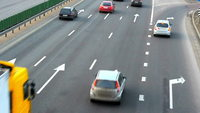car: (88, 69, 126, 102), (153, 20, 172, 36), (58, 7, 77, 20), (98, 1, 115, 13)
